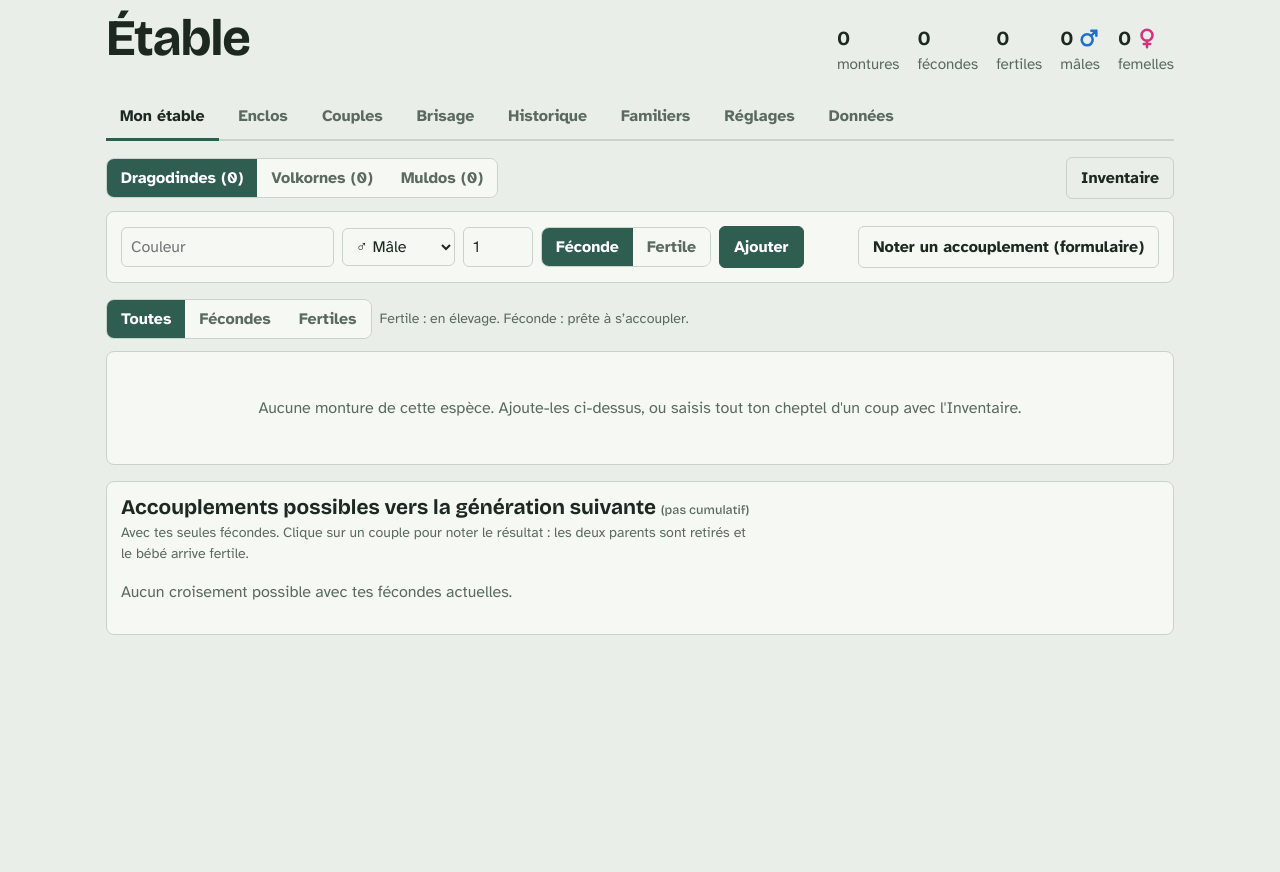
Test case: lots 2 et 3 : inventaire et trois espèces › total + sexe minoritaire : l’autre sexe se calcule seul, dans les deux ordres
The width and height of the screenshot is (1280, 872).
Click the button "Muldos (0)".
click(442, 178)  # box x1=387 y1=159 x2=497 y2=197
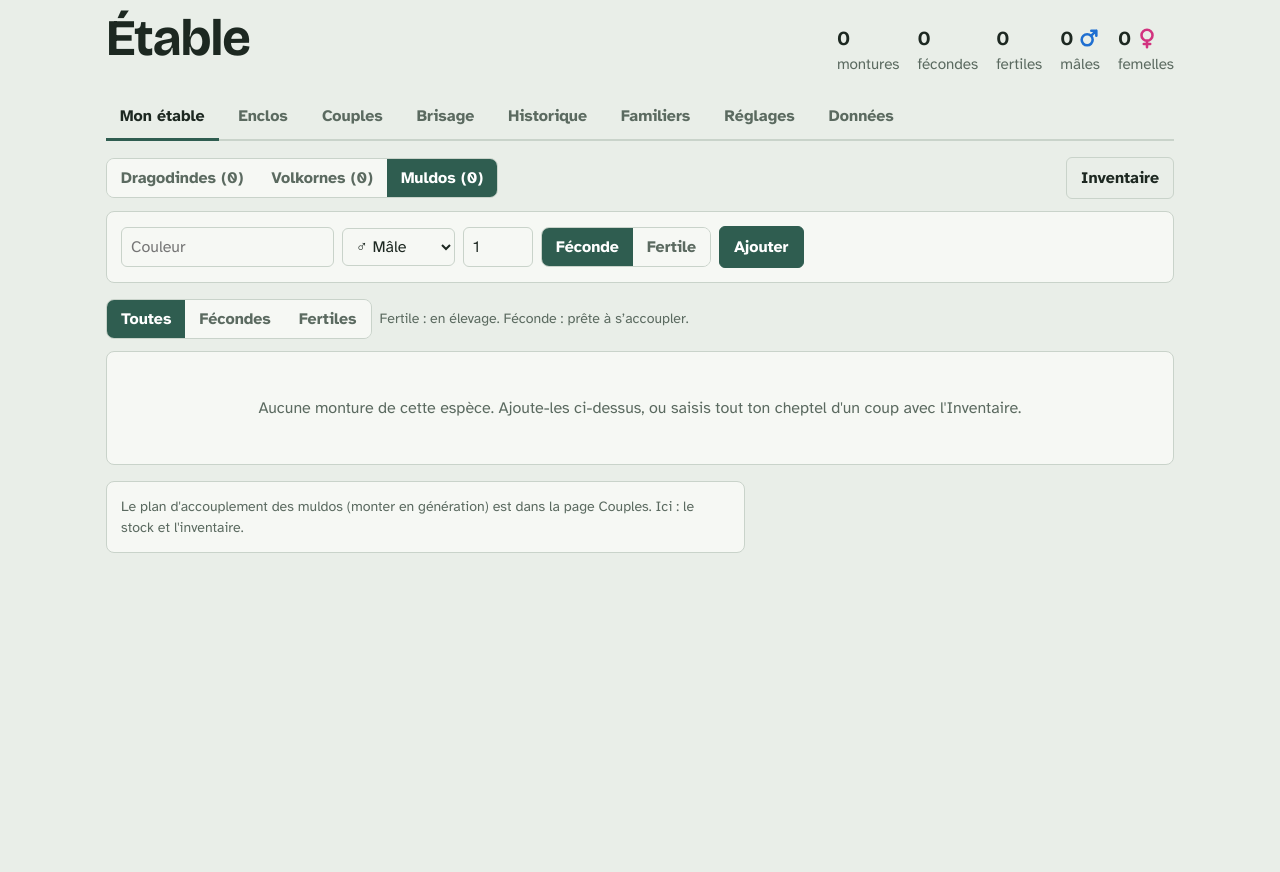
Click the button "Inventaire".
click(1120, 178)  # box x1=1066 y1=157 x2=1174 y2=199
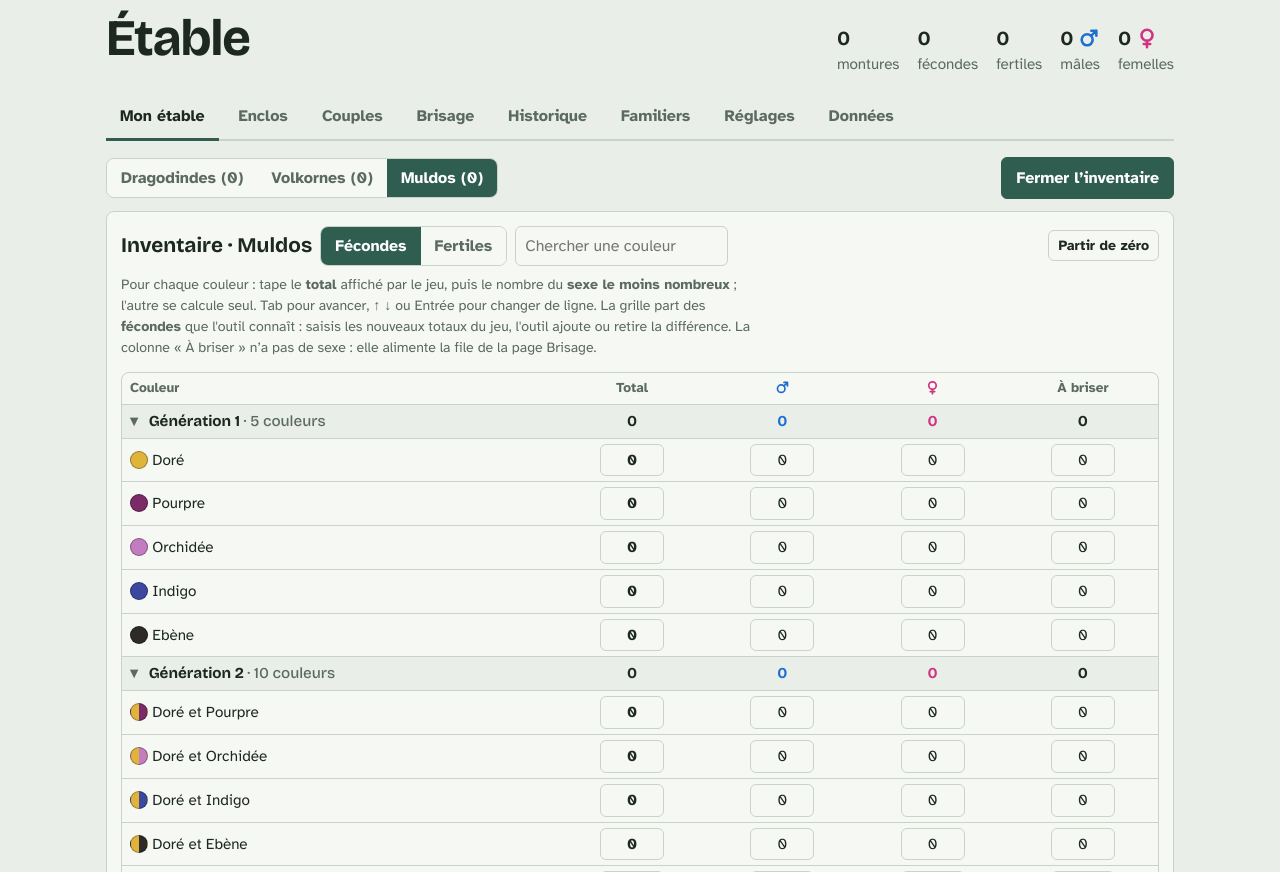
Replace the text in the field named "Doré total" with "40" at (632,460), box x1=600 y1=444 x2=664 y2=476
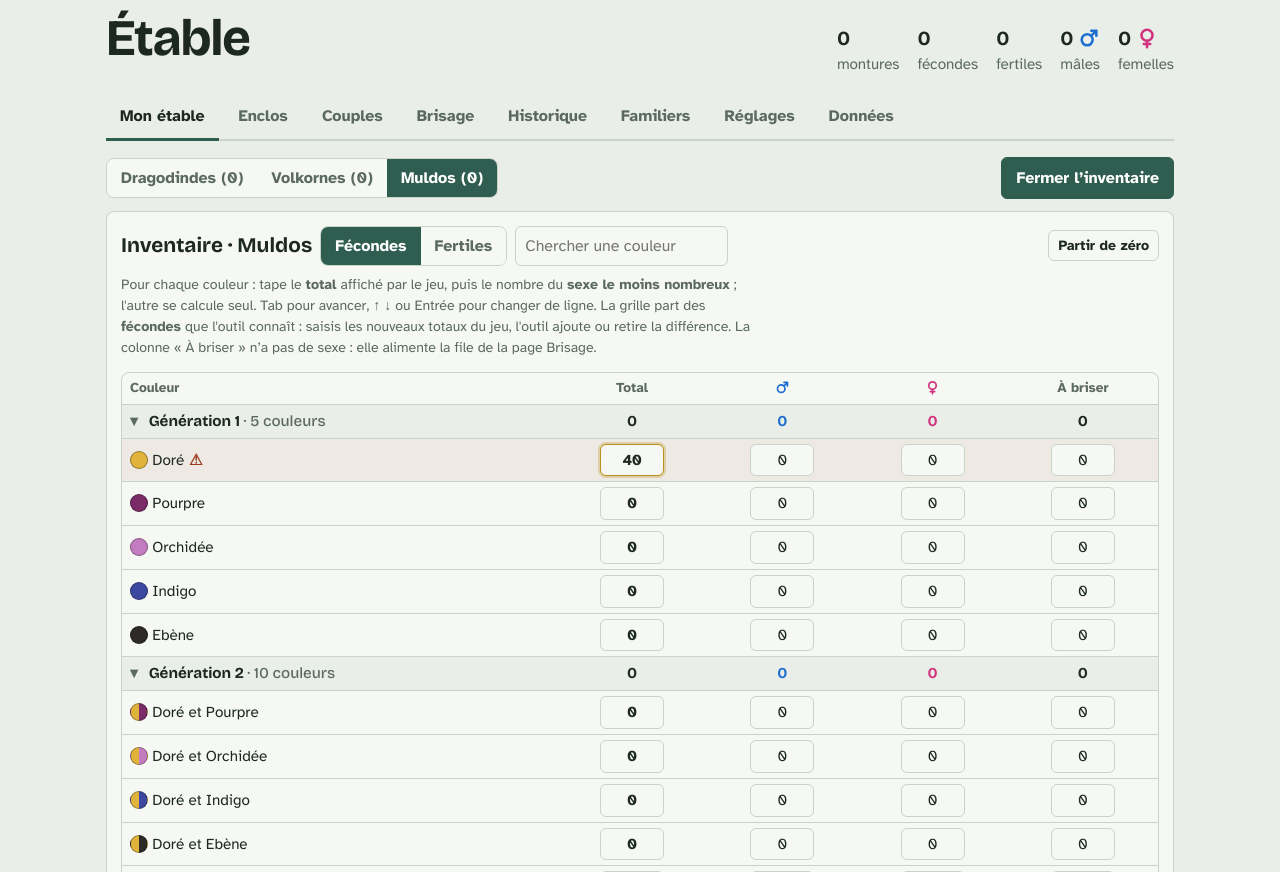
Replace the text in the field named "Doré ♀" with "12" at (933,460), box x1=901 y1=444 x2=965 y2=476
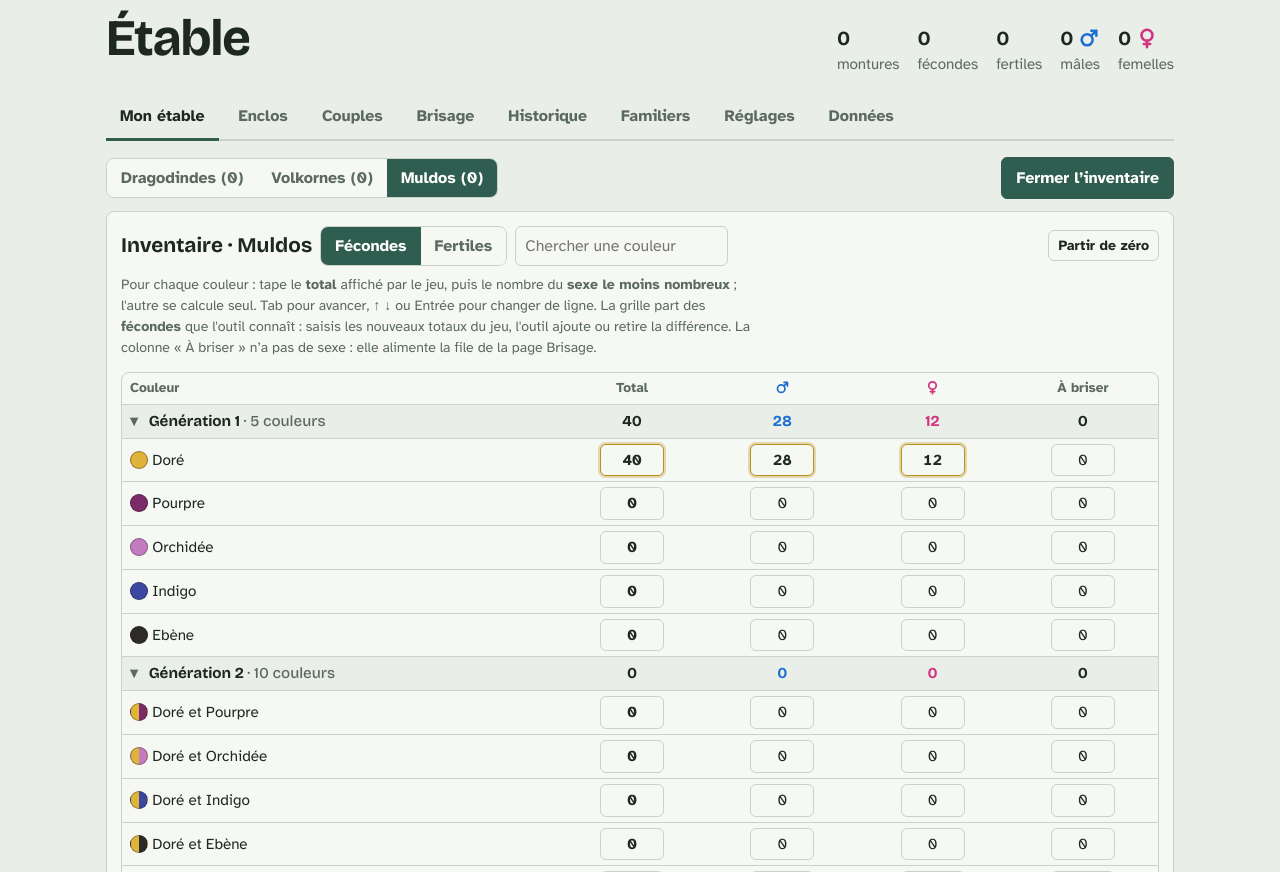
Check: the field named "Doré ♂" holds "28", box x1=750 y1=444 x2=814 y2=476
Replace the text in the field named "Indigo ♂" with "3" at (782,591), box x1=750 y1=575 x2=814 y2=608
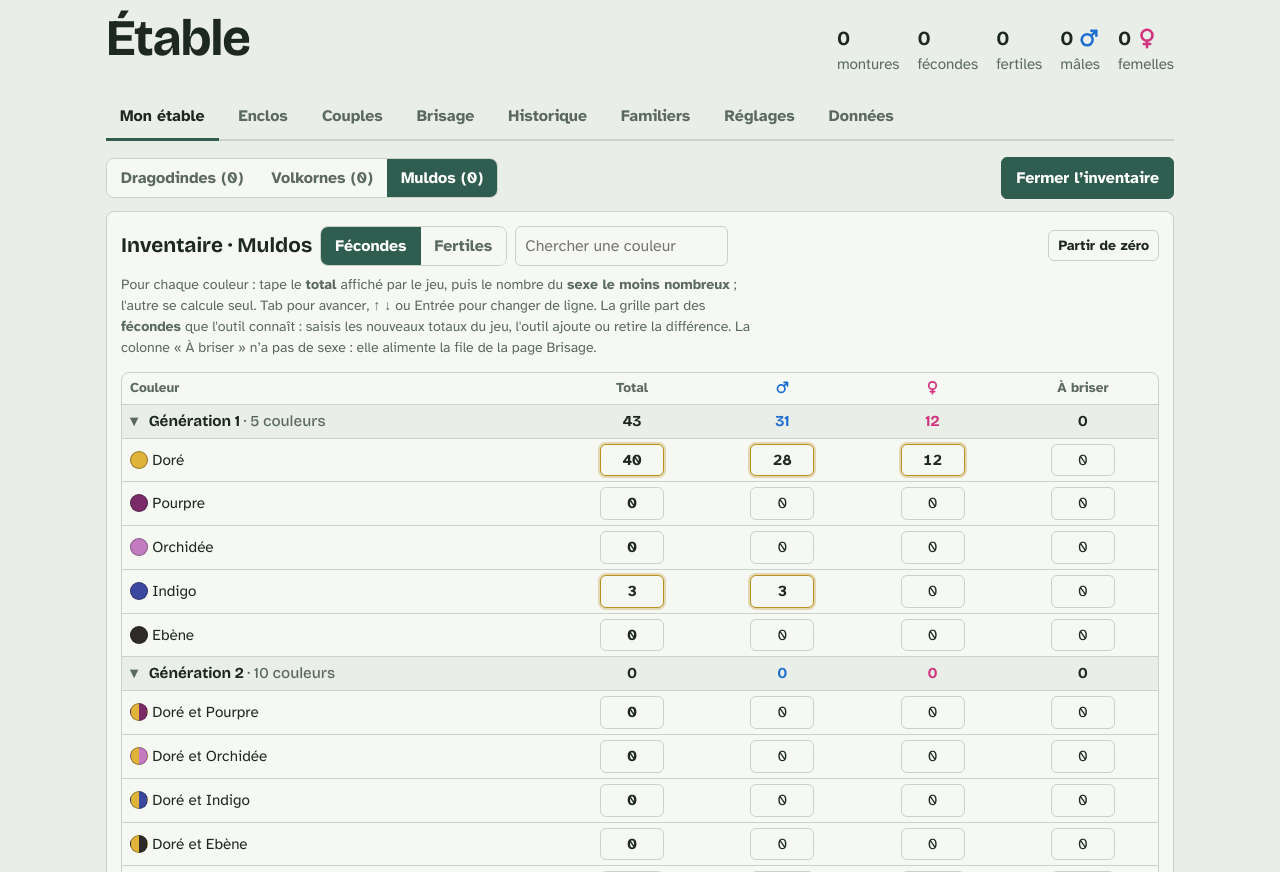
Replace the text in the field named "Indigo total" with "10" at (632,591), box x1=600 y1=575 x2=664 y2=608
(page scrolled)
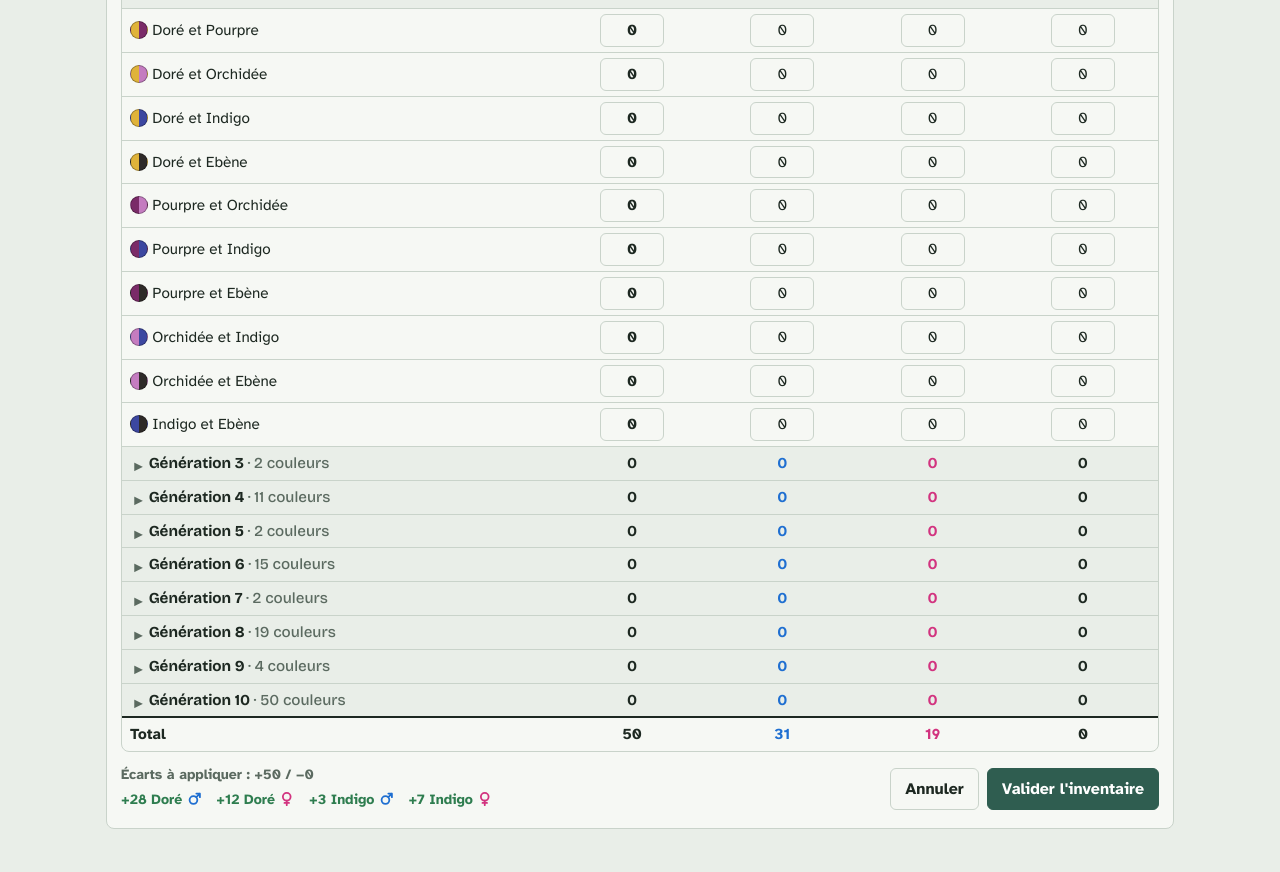
Check: the text "Écarts à appliquer : +50 / −0" is shown, box x1=121 y1=766 x2=314 y2=783
